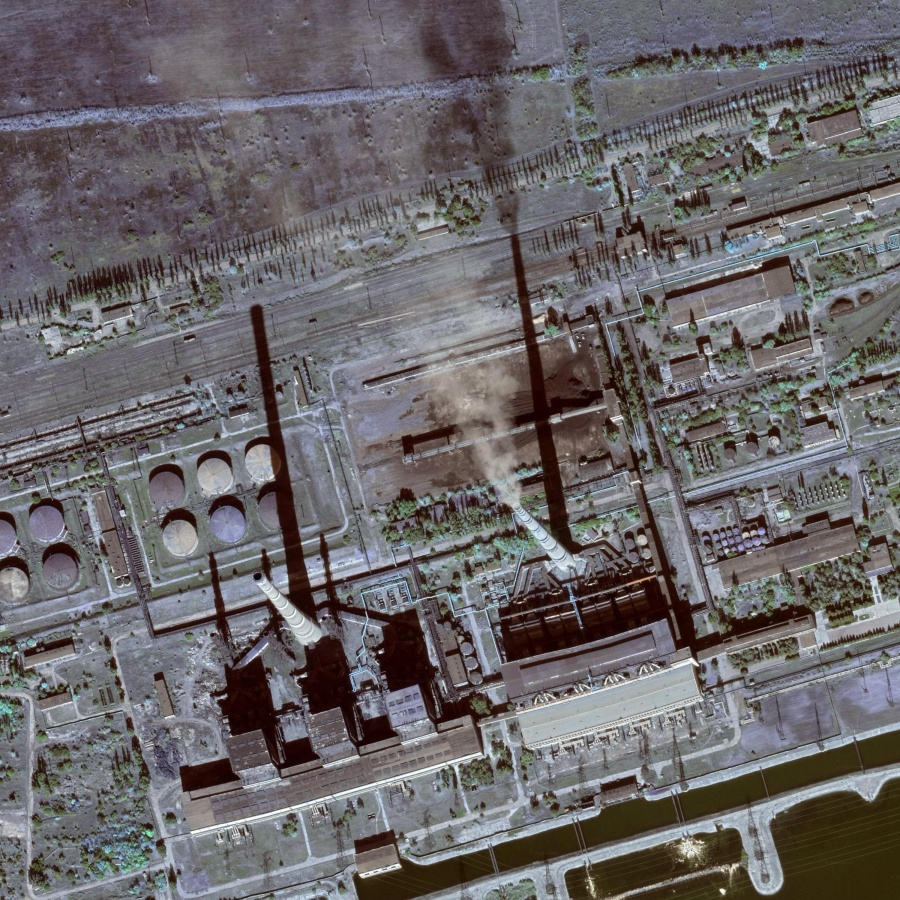PowerPlant: (122, 211, 720, 826)
